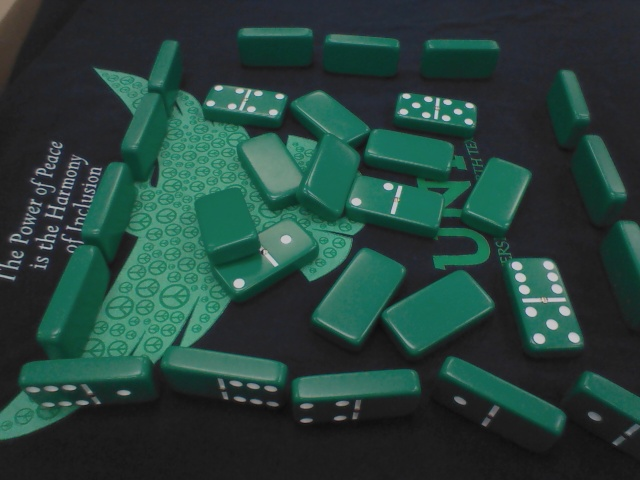A: (385, 272, 495, 355), (313, 245, 399, 346), (464, 155, 530, 230), (240, 135, 307, 205), (197, 189, 259, 258), (312, 131, 359, 215), (297, 94, 370, 143)
B: (505, 256, 589, 353), (215, 224, 312, 302), (351, 172, 444, 234), (396, 92, 478, 133), (204, 83, 285, 124)
C: (34, 247, 107, 356), (84, 162, 132, 257), (122, 95, 162, 176), (148, 39, 179, 102)
D: (573, 135, 624, 223), (604, 221, 640, 330), (545, 70, 588, 148)
E: (432, 353, 564, 449), (166, 347, 285, 410), (24, 359, 160, 412), (295, 370, 420, 424), (563, 371, 640, 452)
F: (237, 25, 318, 70), (324, 34, 397, 75), (422, 41, 497, 77)
